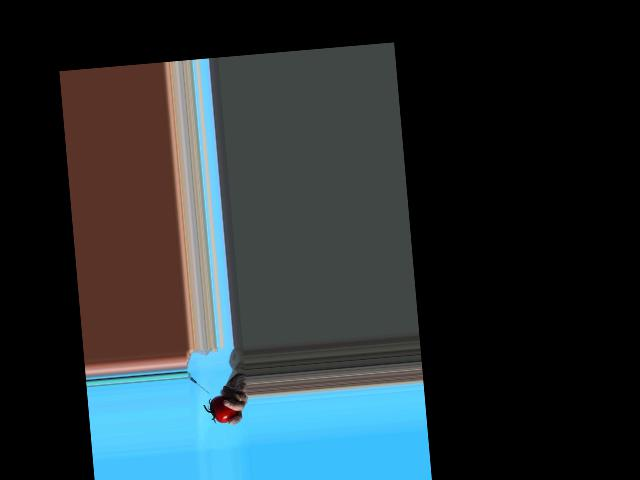tomato: (209, 394, 238, 424)
